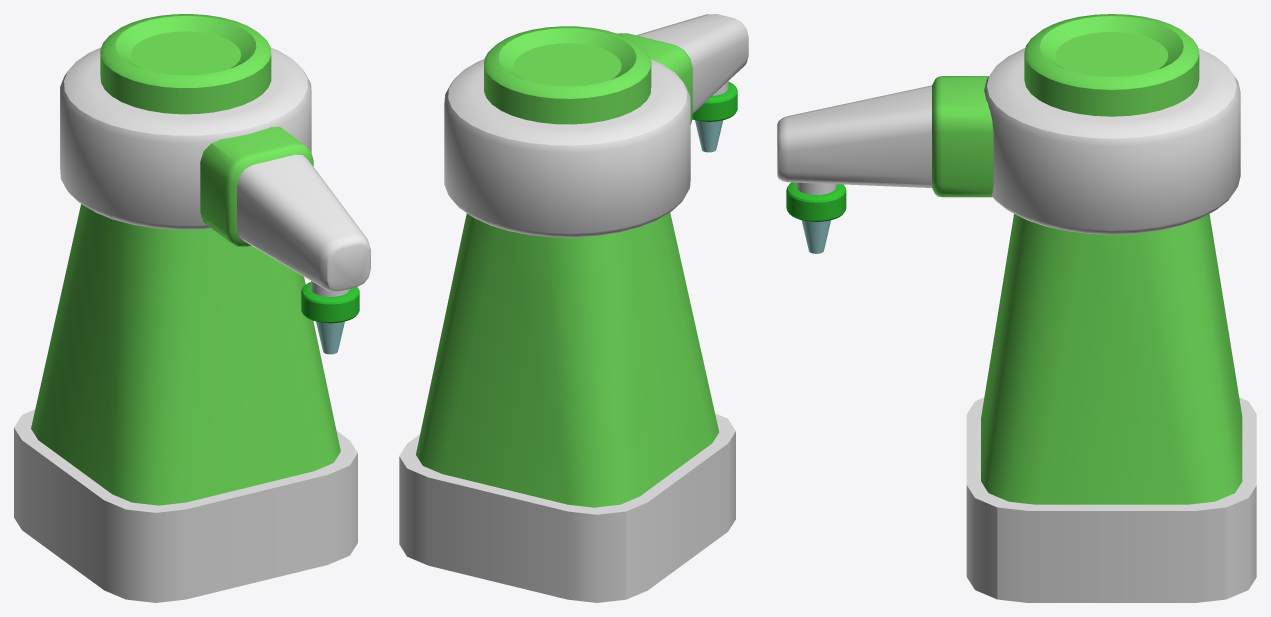
File: mayF.fbx
3 views of the same model, side by side, from view 1: azimuth 30°, elevation 25°; view 2: azimuth 150°, elevation 25°; view 3: azimuth 270°, elevation 25° (orthographic). The views are drawn at different scales.
Parts seen in each view (by area): view 1: Cylinder.003; view 2: Cylinder.003; view 3: Cylinder.003.
Part boxes in pixels (<box>): Cylinder.003: <box>14,14,370,602</box>; Cylinder.003: <box>399,14,748,602</box>; Cylinder.003: <box>777,14,1256,602</box>.
Bounding box in the file's own units: 168 × 317 × 278.
